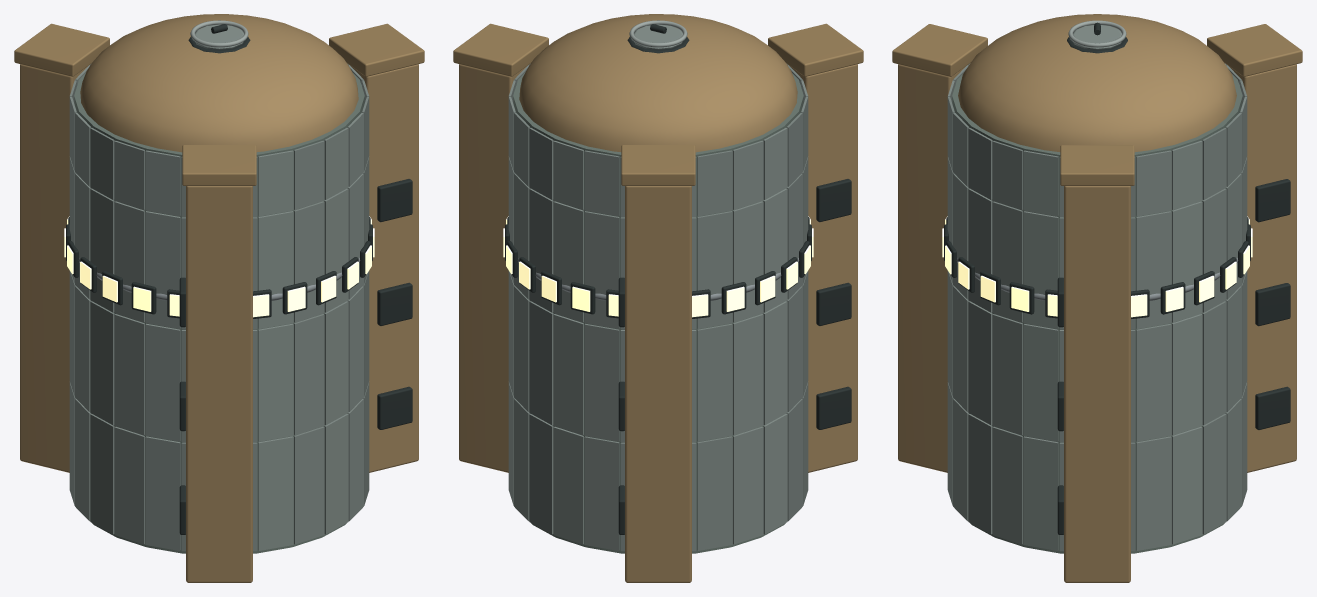
3 renders of one model, left to right at view 1: azimuth 30°, elevation 25°; view 2: azimuth 150°, elevation 25°; view 3: azimuth 270°, elevation 25°, orthographic.
Parts seen in each view (by area): view 1: Command cylindrical armour, Tower crown, Command vertical fin.002, Command vertical fin.001, Command vertical fin, Cylindrical tower, Command fin edge cap.001, Command fin edge cap, Command fin edge cap.002, Command fin equipment inset, Command fin equipment inset.001, Command fin equipment inset.002 (+2 smaller); view 2: Command cylindrical armour, Tower crown, Command vertical fin.001, Command vertical fin, Command vertical fin.002, Cylindrical tower, Command fin edge cap.002, Command fin edge cap, Command fin edge cap.001, Command fin equipment inset.006, Command fin equipment inset.007, Command fin equipment inset.008 (+2 smaller); view 3: Command cylindrical armour, Tower crown, Command vertical fin, Command vertical fin.002, Command vertical fin.001, Cylindrical tower, Command fin edge cap.001, Command fin edge cap.002, Command fin edge cap, Command fin equipment inset.004, Command fin equipment inset.003, Command fin equipment inset.005 (+2 smaller).
Boxes of the visible parts, x1,y1,x2,y2 form: Command cylindrical armour: (69,64,369,551); Tower crown: (80,14,358,152); Command vertical fin.002: (186,186,252,582); Command vertical fin.001: (20,64,90,472); Command vertical fin: (347,63,418,472); Cylindrical tower: (74,73,364,553); Command fin edge cap.001: (14,23,109,76); Command fin edge cap: (329,23,424,76); Command fin edge cap.002: (182,145,256,185); Command fin equipment inset: (377,386,412,429); Command fin equipment inset.001: (377,282,412,325); Command fin equipment inset.002: (377,179,412,222); Command cylindrical armour: (508,64,808,551); Tower crown: (519,14,797,152); Command vertical fin.001: (625,186,691,582); Command vertical fin: (459,63,530,472); Command vertical fin.002: (787,64,857,472); Cylindrical tower: (513,73,803,553); Command fin edge cap.002: (768,23,863,76); Command fin edge cap: (453,23,548,76); Command fin edge cap.001: (621,145,695,185); Command fin equipment inset.006: (816,386,851,429); Command fin equipment inset.007: (816,282,851,325); Command fin equipment inset.008: (816,179,851,222); Command cylindrical armour: (947,63,1247,551); Tower crown: (958,14,1236,151); Command vertical fin: (1064,186,1130,582); Command vertical fin.002: (898,63,970,472); Command vertical fin.001: (1224,63,1296,472); Cylindrical tower: (952,74,1242,553); Command fin edge cap.001: (1207,24,1302,76); Command fin edge cap.002: (892,24,987,76); Command fin edge cap: (1060,145,1134,185); Command fin equipment inset.004: (1255,283,1290,326); Command fin equipment inset.003: (1255,386,1290,429); Command fin equipment inset.005: (1255,179,1290,222).
Bounding box in the file's own units: 1.94 × 2.7 × 2.15.
